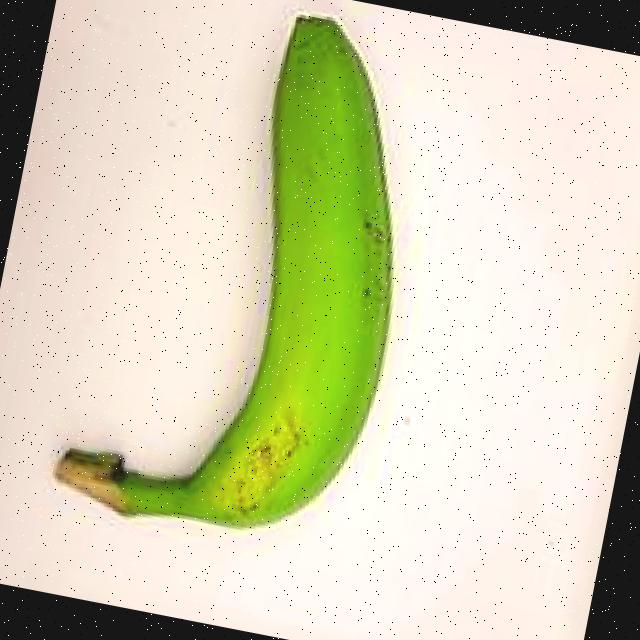Unripe: (23, 0, 480, 594)
